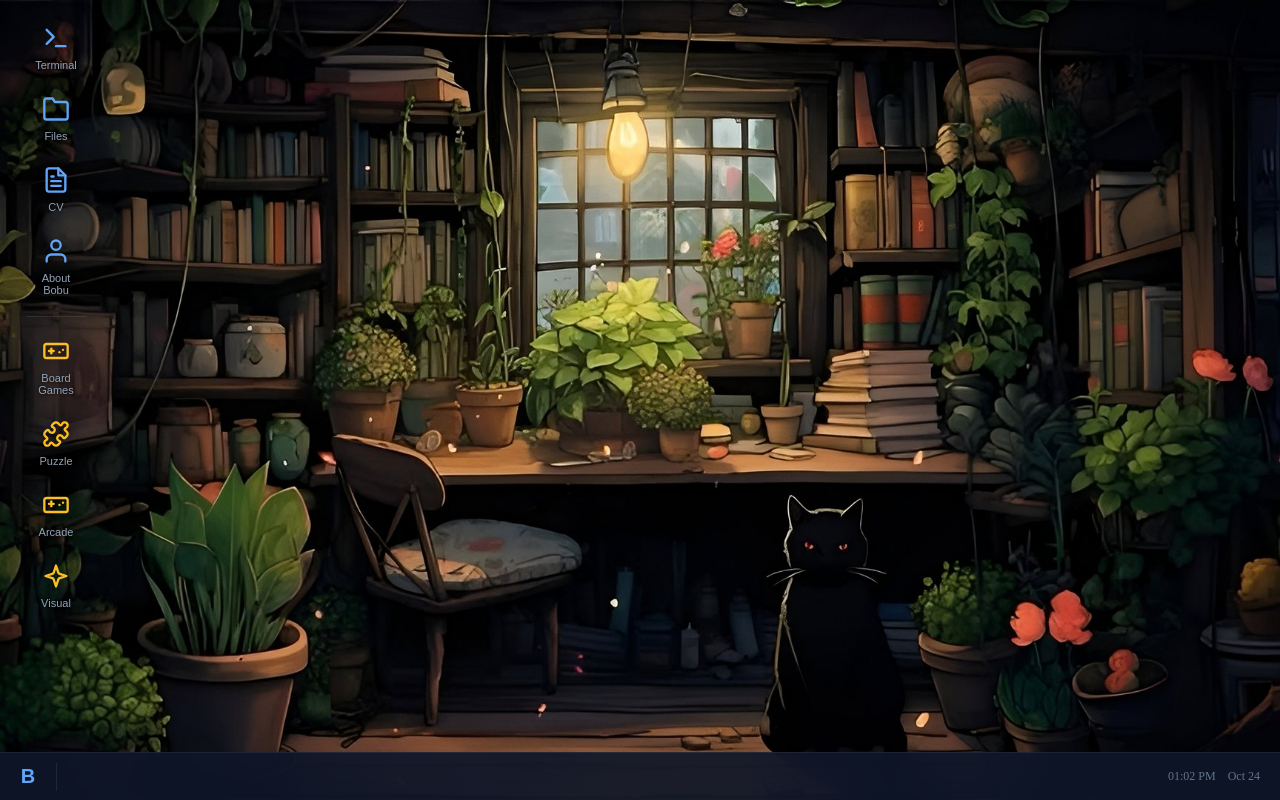
Scenario: HomePage window controls › closes a window
Double-click the button titled "Terminal" at (56, 48), box [16,16,96,79]
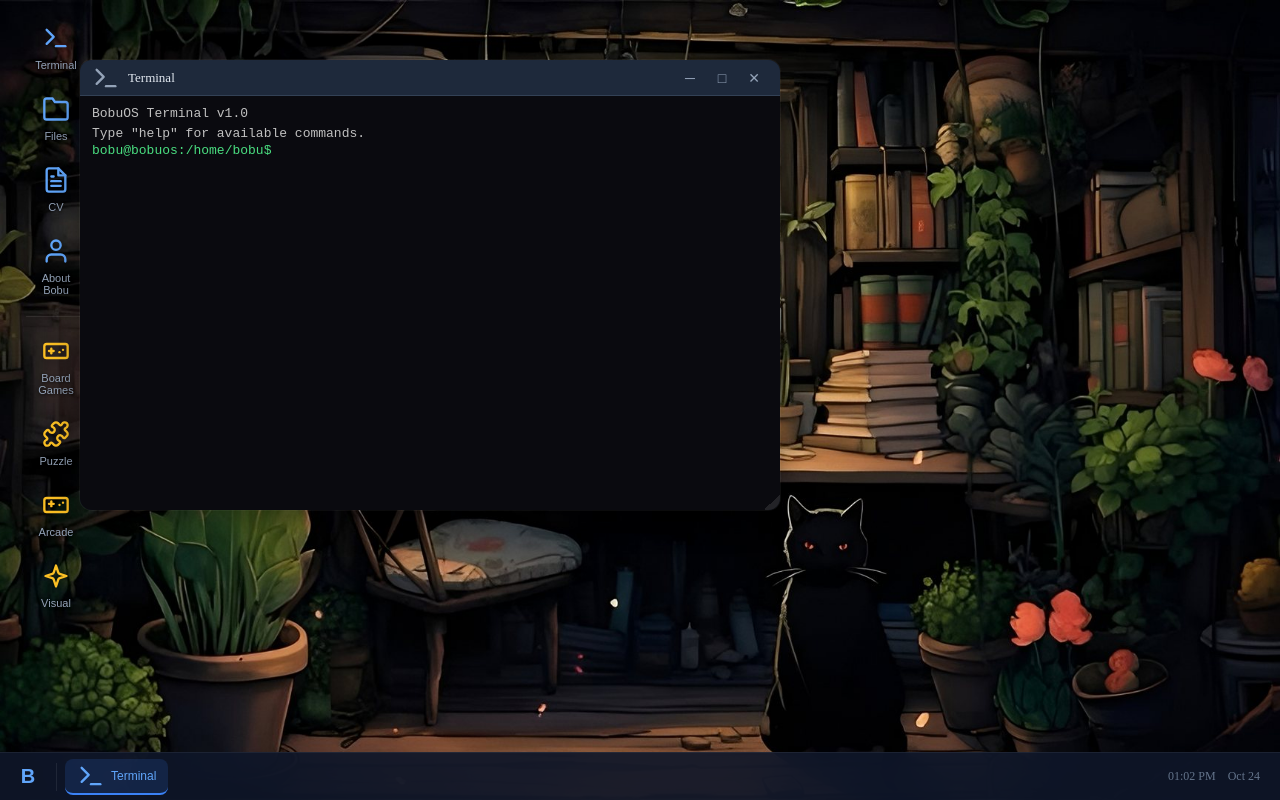
Click the button titled "Close" at (754, 78), box [740,64,768,92]
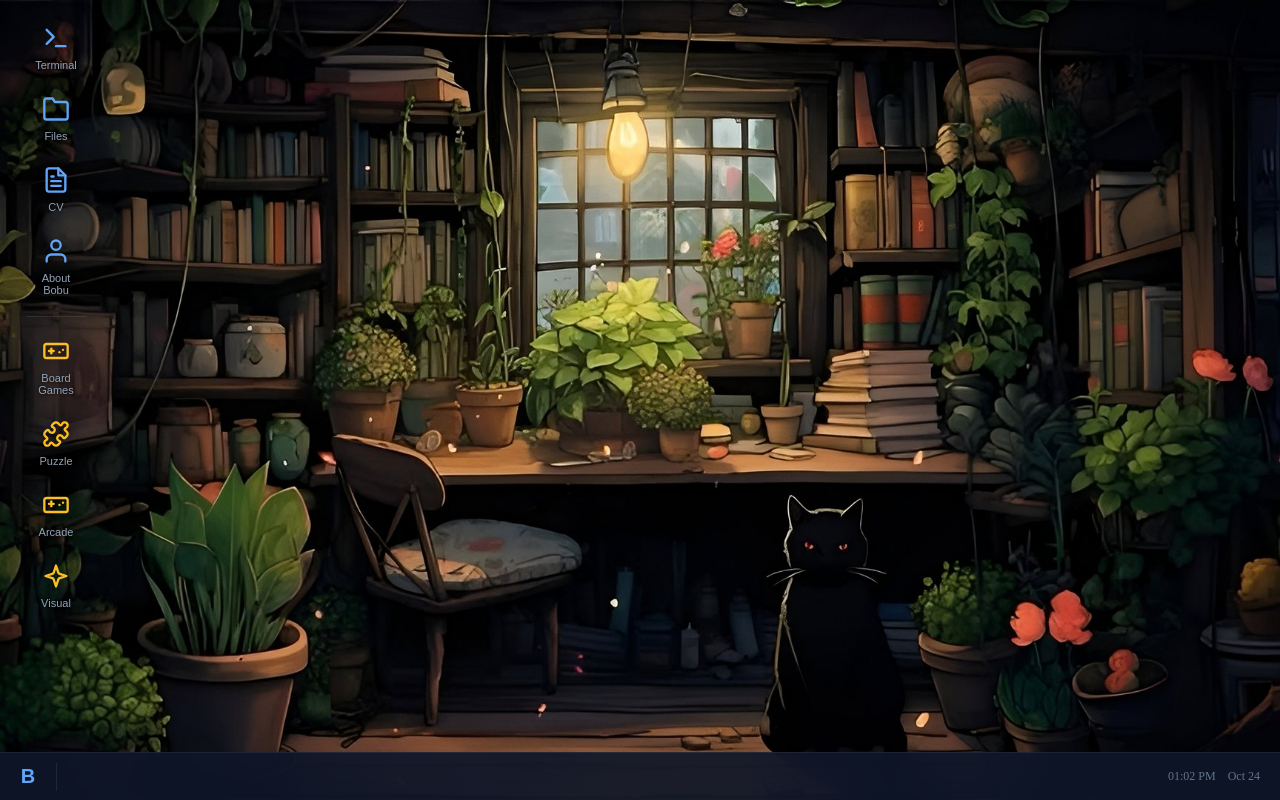
Result: the field is gone
